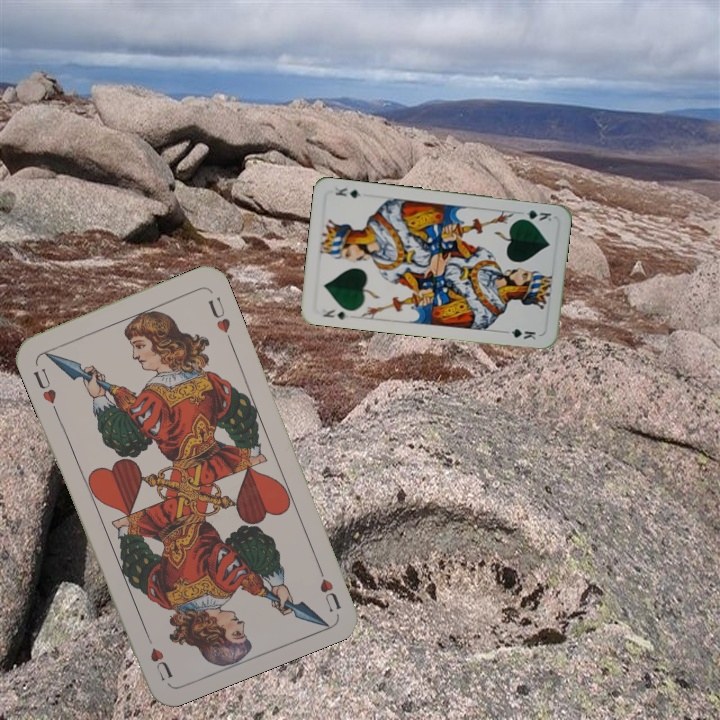GK: (515, 206, 554, 224), (318, 305, 351, 322)
HU: (312, 558, 343, 615), (29, 364, 59, 406)
